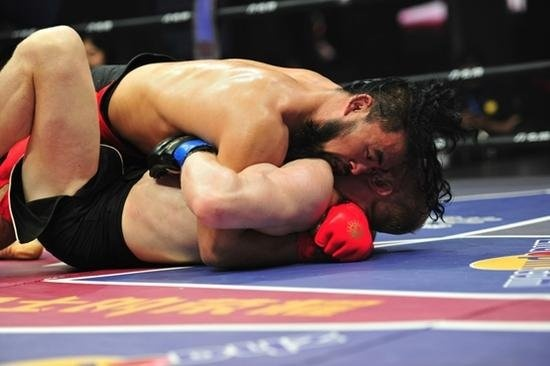falling: (1, 20, 437, 272)
